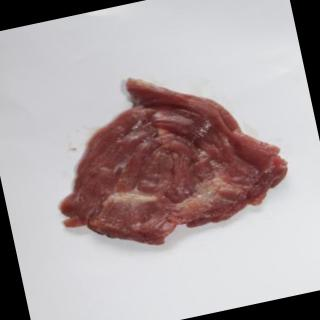Daging Sapi: (37, 50, 300, 264)
